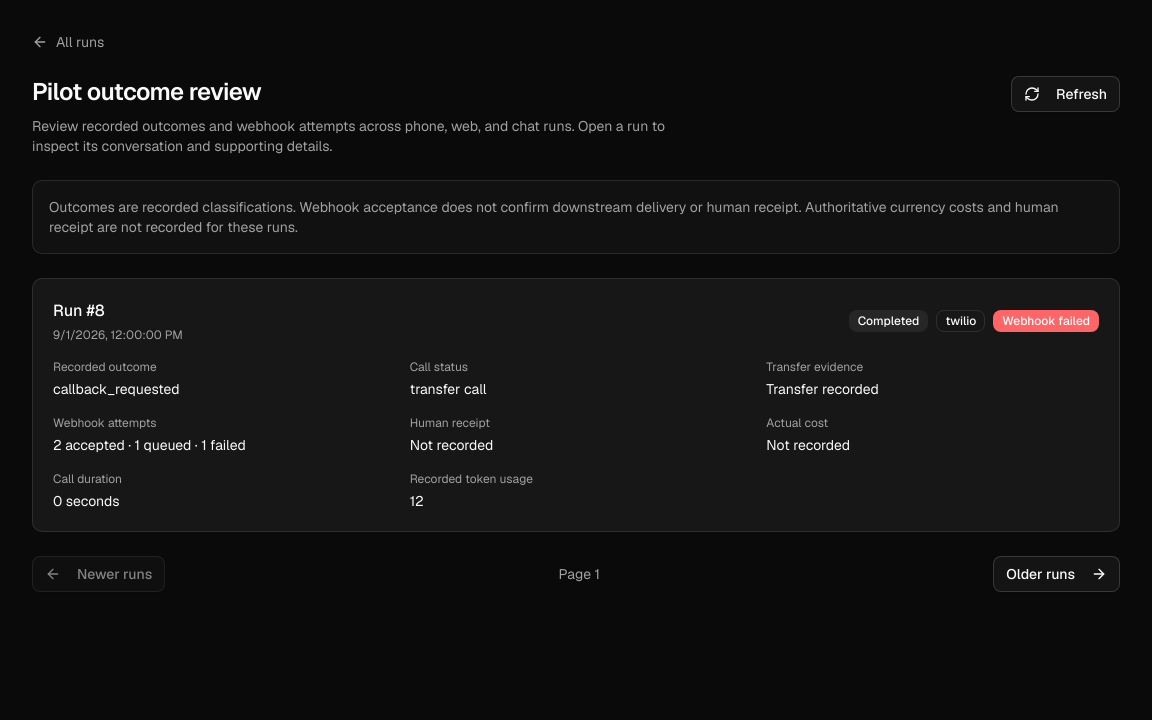
PilotReview › uses bounded cursor pagination and refreshes the newest page
Expected: the link "Run #8" is shown, [53,300,105,321]
Click the button "Older runs": (1057, 574) [993,556,1120,592]
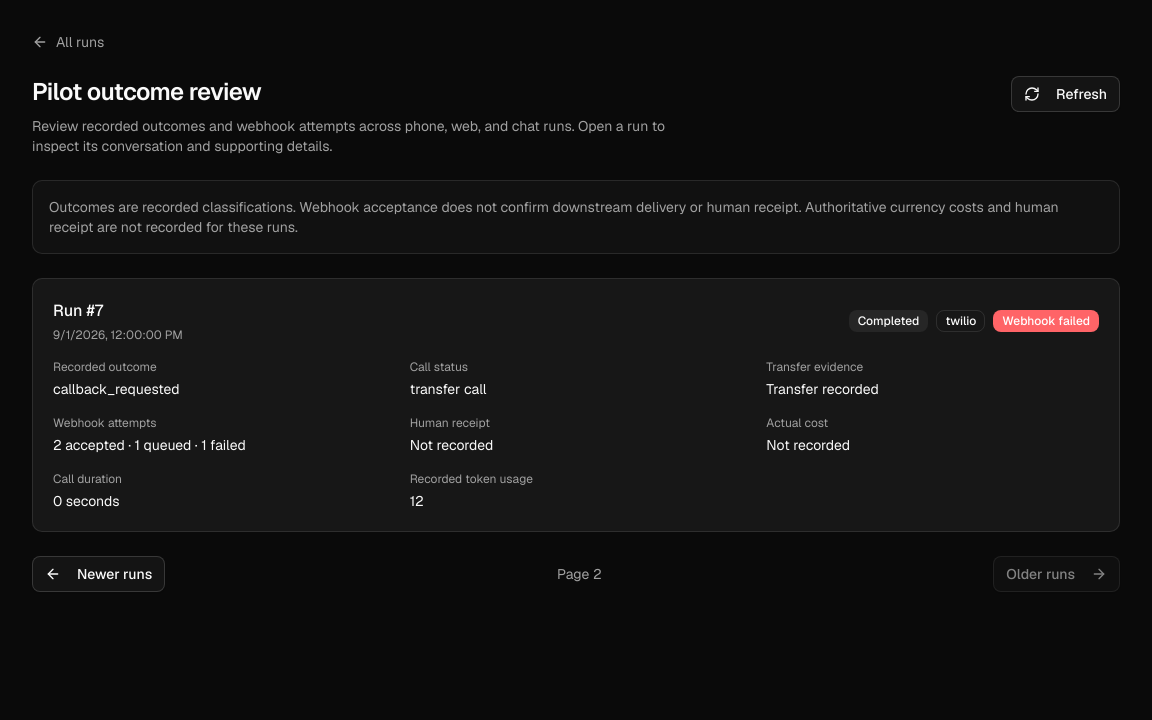
Expected: the link "Run #7" is shown, [53,300,103,321]
Expected: the button "Older runs" is disabled, [993,556,1120,592]
Click the button "Refresh": (1066, 94) [1011,76,1120,112]
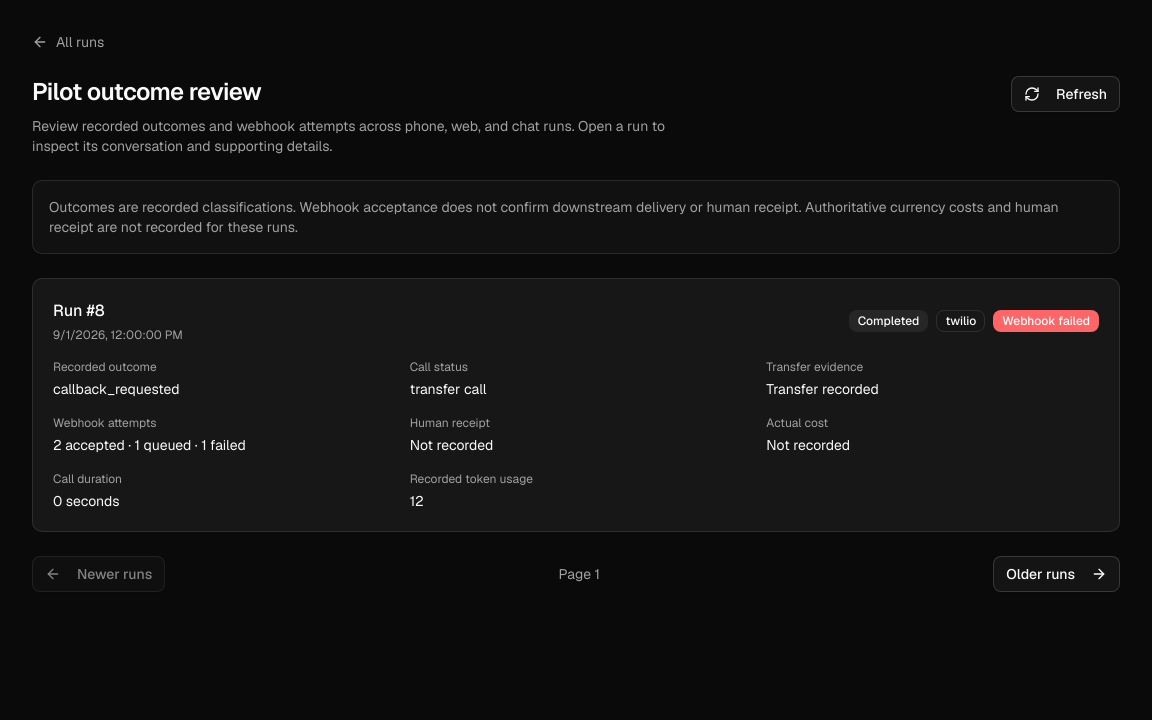
Expected: the link "Run #8" is shown, [53,300,105,321]
Expected: the text "Page 1" is shown, [559,564,600,584]
